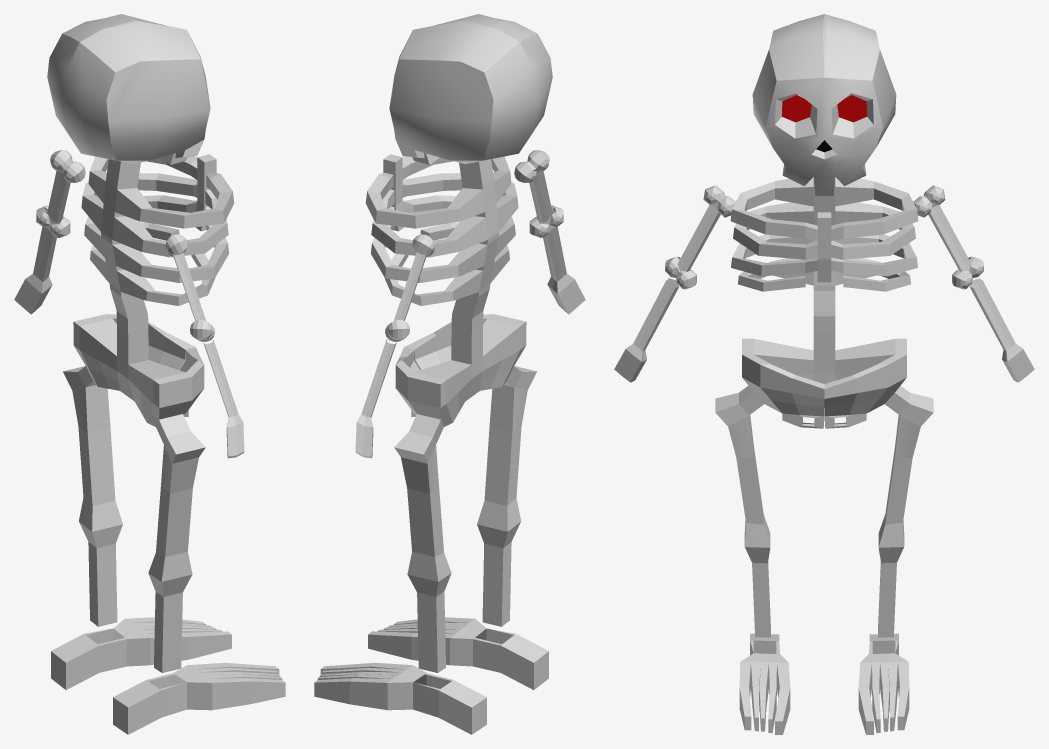
The model's file is Skeleton.fbx.
The picture shows the model from 3 angles, left to right: view 1: azimuth 30°, elevation 25°; view 2: azimuth 150°, elevation 25°; view 3: azimuth 270°, elevation 25°; orthographic projection. The views are drawn at different scales.
Visible parts, largest first — view 1: Skeleton; view 2: Skeleton; view 3: Skeleton.
Part boxes in pixels (x1,y1,x2,y2): Skeleton: (14,14,285,734); Skeleton: (314,14,585,734); Skeleton: (614,14,1034,734).
Bounding box in the file's own units: 433 × 1457 × 855.
